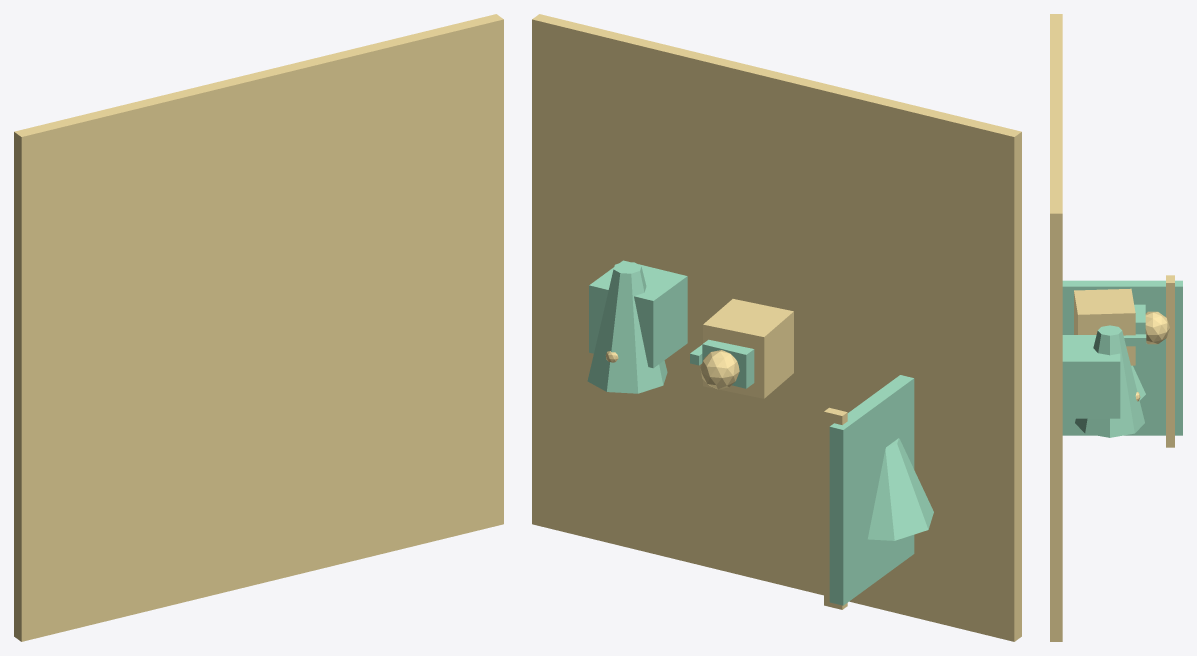
The model's file is rune-match-quest-kit.glb.
3 views of the same model, side by side, from view 1: azimuth 30°, elevation 25°; view 2: azimuth 150°, elevation 25°; view 3: azimuth 270°, elevation 25° (orthographic). The views are drawn at different scales.
Visible parts, largest first — view 1: ENVIRONMENT_GROUND; view 2: ENVIRONMENT_GROUND, PROFILE_ENVIRONMENT_DETAIL, PROFILE_OBSTACLE_DETAIL, PLAYER_BODY, OBSTACLE, ENVIRONMENT_LANDMARK, PROFILE_ENVIRONMENT_TRIM, PROFILE_PLAYER_HEAD, PROFILE_PLAYER_DETAIL; view 3: ENVIRONMENT_GROUND, PROFILE_ENVIRONMENT_DETAIL, OBSTACLE, PROFILE_OBSTACLE_DETAIL, PLAYER_BODY, PROFILE_ENVIRONMENT_TRIM, PROFILE_PLAYER_HEAD, PROFILE_PLAYER_DETAIL, PROFILE_PLAYER_TOOL.
Part boxes in pixels (<box>): ENVIRONMENT_GROUND: <box>14,14,503,641</box>; ENVIRONMENT_GROUND: <box>532,14,1021,641</box>; PROFILE_ENVIRONMENT_DETAIL: <box>829,375,914,605</box>; PROFILE_OBSTACLE_DETAIL: <box>587,262,667,393</box>; PLAYER_BODY: <box>703,299,793,398</box>; OBSTACLE: <box>589,260,687,368</box>; ENVIRONMENT_LANDMARK: <box>868,438,933,540</box>; PROFILE_ENVIRONMENT_TRIM: <box>824,407,847,609</box>; PROFILE_PLAYER_HEAD: <box>700,350,739,389</box>; PROFILE_PLAYER_DETAIL: <box>702,339,754,388</box>; ENVIRONMENT_GROUND: <box>1050,14,1062,641</box>; PROFILE_ENVIRONMENT_DETAIL: <box>1062,280,1182,435</box>; OBSTACLE: <box>1062,335,1120,418</box>; PROFILE_OBSTACLE_DETAIL: <box>1075,325,1144,437</box>; PLAYER_BODY: <box>1074,288,1135,365</box>; PROFILE_ENVIRONMENT_TRIM: <box>1166,275,1174,447</box>; PROFILE_PLAYER_HEAD: <box>1145,311,1169,344</box>; PROFILE_PLAYER_DETAIL: <box>1134,304,1145,351</box>; PROFILE_PLAYER_TOOL: <box>1123,334,1146,346</box>.
Bounding box in the file's own units: 9 × 9 × 2.53.
